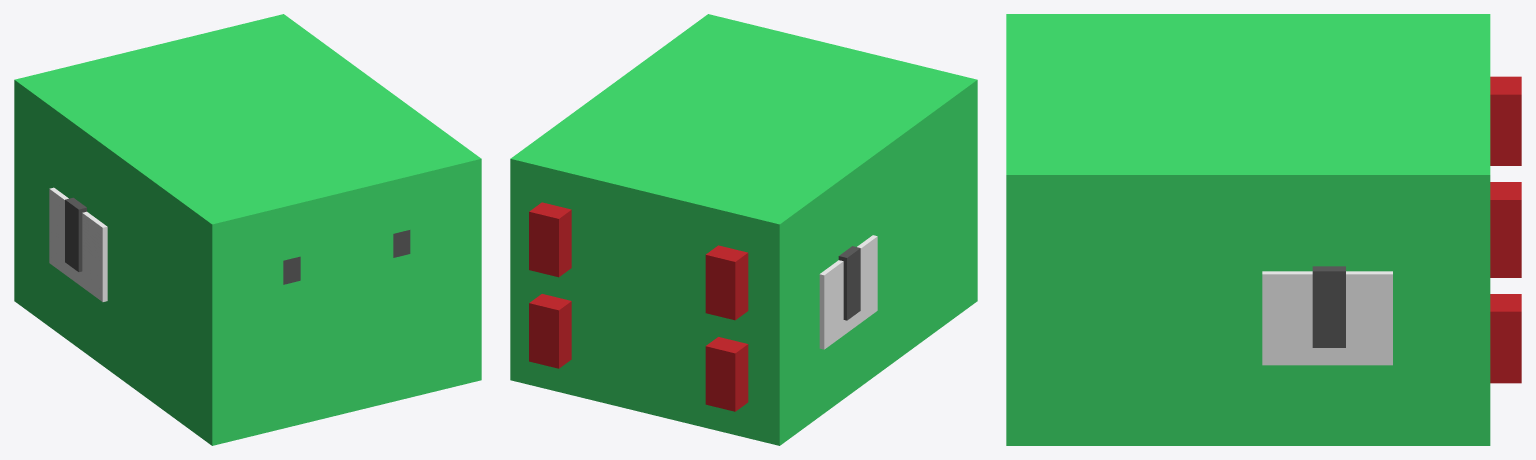
Rendered from green_head.obj.
3 views of the same model, side by side, from view 1: azimuth 30°, elevation 25°; view 2: azimuth 150°, elevation 25°; view 3: azimuth 270°, elevation 25° (orthographic). The views are drawn at different scales.
Visible parts, largest first — view 1: green_head:polySurface2; view 2: green_head:polySurface2; view 3: green_head:polySurface2.
Boxes of the visible parts, left/top/right/bottom form: green_head:polySurface2: left=14, top=14, right=481, bottom=445; green_head:polySurface2: left=510, top=14, right=977, bottom=445; green_head:polySurface2: left=1006, top=14, right=1521, bottom=445.
Bounding box in the file's own units: 2.97 × 2.2 × 3.79.
1 material, 1 textured.
